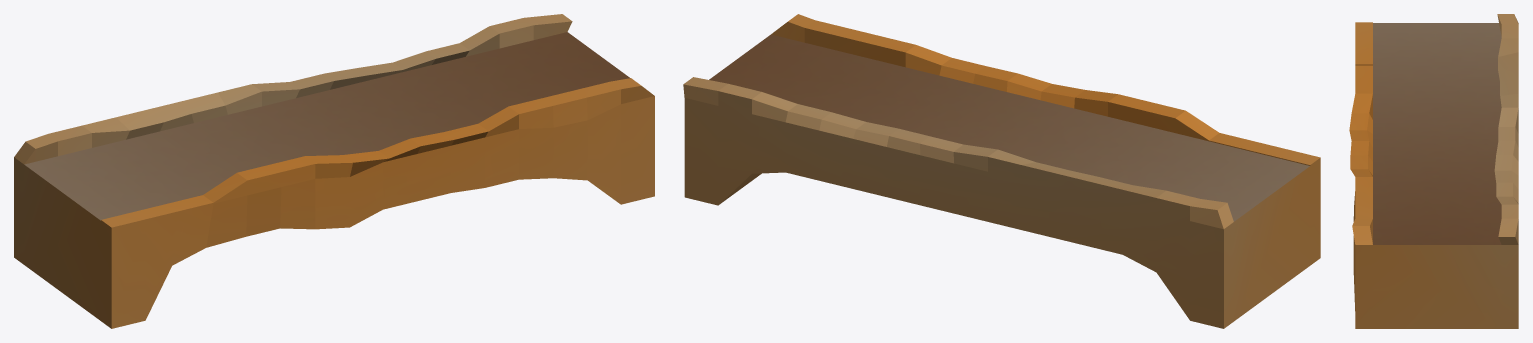
Rendered from Bridge.fbx.
3 renders of one model, left to right at view 1: azimuth 30°, elevation 25°; view 2: azimuth 150°, elevation 25°; view 3: azimuth 270°, elevation 25°, orthographic. The views are drawn at different scales.
Parts seen in each view (by area): view 1: Bridge Frame, Bridge Top; view 2: Bridge Frame, Bridge Top; view 3: Bridge Top, Bridge Frame.
Part boxes in pixels (box(x1,y1,x2,y2)): Bridge Frame: box(14, 14, 654, 328); Bridge Top: box(24, 32, 630, 220); Bridge Frame: box(683, 14, 1320, 328); Bridge Top: box(709, 34, 1309, 221); Bridge Top: box(1373, 23, 1501, 244); Bridge Frame: box(1349, 14, 1518, 328).
Size of the model in its own units: 1139 by 230 by 365.
